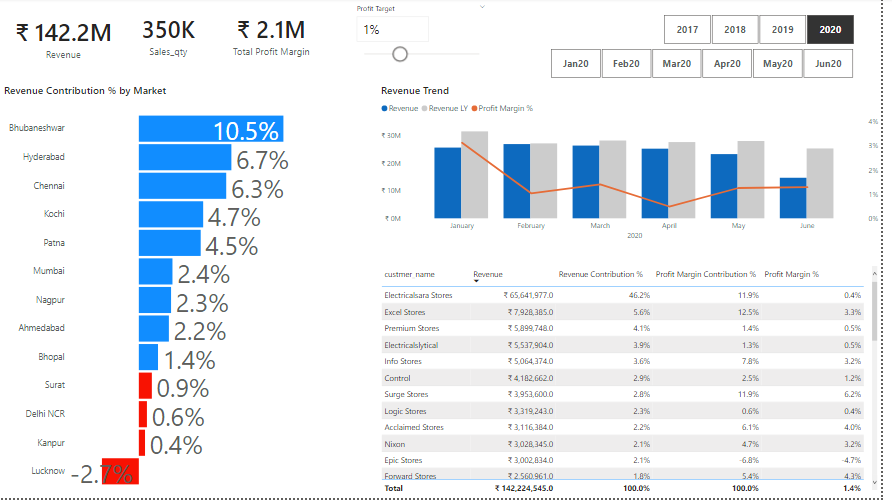

This screenshot's page, from the dashboard's own definition file:
{"tool":"powerbi","page":{"name":"Performance Insight","canvas":[1500,850],"ordinal":2},"visuals":[{"type":"card","fields":{"Values":["Measures Table.Revenue"]},"box":[11.8,21.7,194.9,90.6],"z":0},{"type":"card","fields":{"Values":["Measures Table.Sales_qty"]},"box":[206.7,17.7,161.4,90.6],"z":1000},{"type":"slicer","fields":{"Values":["sales date.year"]},"box":[1104.3,21.7,372,63],"z":4000},{"type":"slicer","fields":{"Values":["sales date.cy_date"]},"box":[913.4,80.7,563,63],"z":5000},{"type":"tableEx","title":"Top 5 Customers","fields":{"Values":["sales customers.custmer_name","Measures Table.Revenue","Measures Table.Revenue Contribution %","Measures Table.Profit Margin Contribution %","Measures Table.Profit Margin %"]},"box":[643.7,450.8,854.3,399.6],"z":6000},{"type":"lineClusteredColumnComboChart","title":"Revenue Trend","fields":{"Category":["sales date.cy_date.Variation.Date Hierarchy.Year","sales date.cy_date.Variation.Date Hierarchy.Month"],"Y":["Measures Table.Revenue","Measures Table.Revenue LY"],"Y2":["Measures Table.Profit Margin %"]},"box":[643.7,143.7,856.3,281.5],"z":7000},{"type":"card","fields":{"Values":["Measures Table.Total Profit Margin1"]},"box":[381.9,17.7,161.4,90.6],"z":8000},{"type":"barChart","title":"Revenue Contribution  % by Market","fields":{"Y":["Measures Table.Profit Margin %"],"Category":["sales markets.zone","sales markets.markets_name","sales customers.custmer_name"]},"box":[3.9,143.7,590.6,706.7],"z":9000},{"type":"slicer","fields":{"Values":["Profit Target.Profit Target"]},"box":[594.5,3.9,244.1,112.2],"z":9003}]}

Visuals, with their boxes in screenshot pixels (x1, y1, x2, y2), scaled from the page's 1500x850 canvas onto the 892x500 screenshot:
card - Measures Table.Revenue: BBox(7, 13, 123, 66)
card - Measures Table.Sales_qty: BBox(123, 10, 219, 64)
slicer - sales date.year: BBox(657, 13, 878, 50)
slicer - sales date.cy_date: BBox(543, 47, 878, 85)
"Top 5 Customers" tableEx: BBox(383, 265, 891, 499)
"Revenue Trend" lineClusteredColumnComboChart: BBox(383, 85, 891, 250)
card - Measures Table.Total Profit Margin1: BBox(227, 10, 323, 64)
"Revenue Contribution  % by Market" barChart: BBox(2, 85, 354, 499)
slicer - Profit Target.Profit Target: BBox(354, 2, 499, 68)
